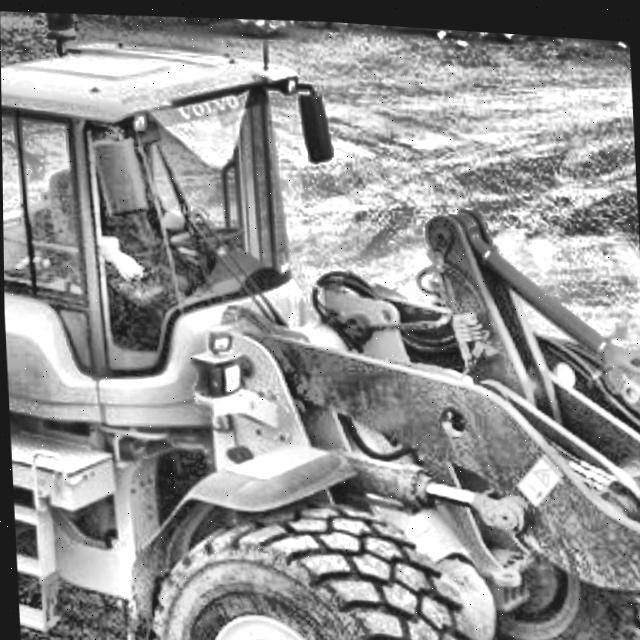buldozerpayloadergrader: (0, 8, 640, 640)
